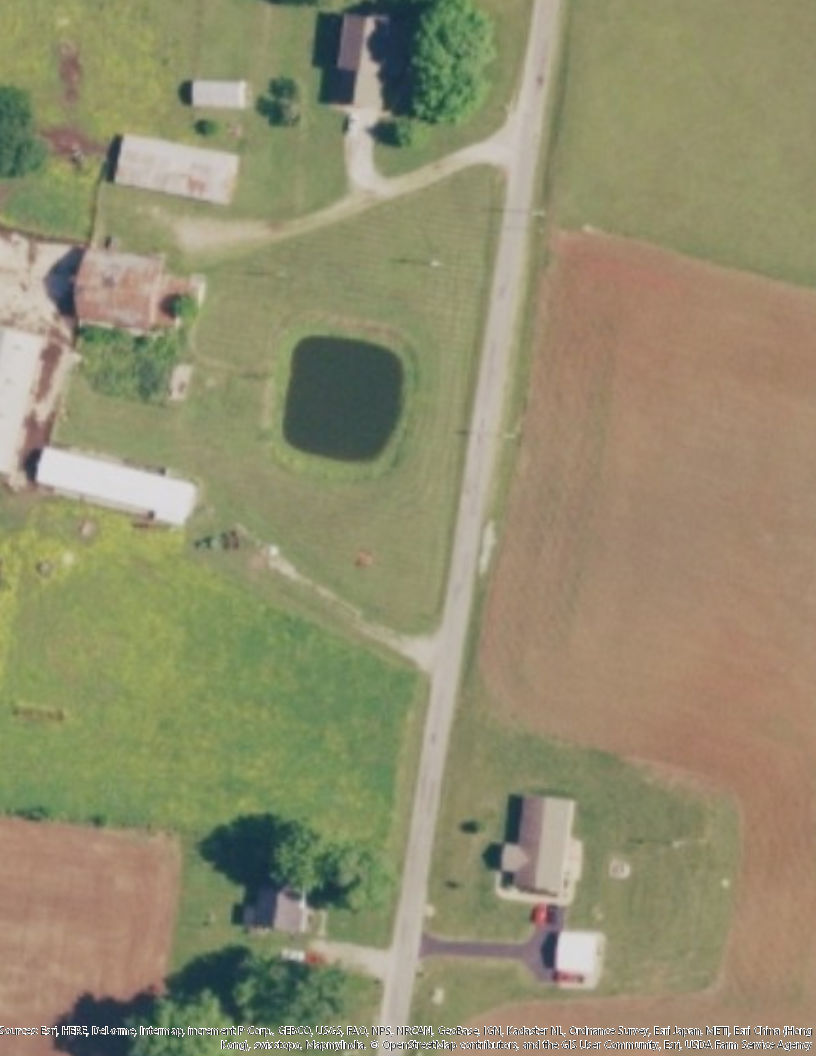cafo: (63, 239, 216, 344), (30, 438, 204, 527), (105, 125, 244, 212)
